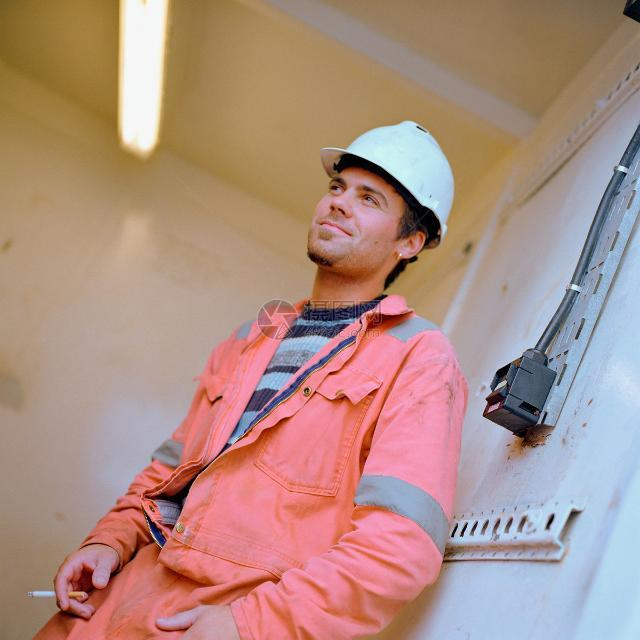SafeDriving: (354, 187, 386, 210), (324, 172, 351, 197)
Smoking: (22, 582, 90, 600)
